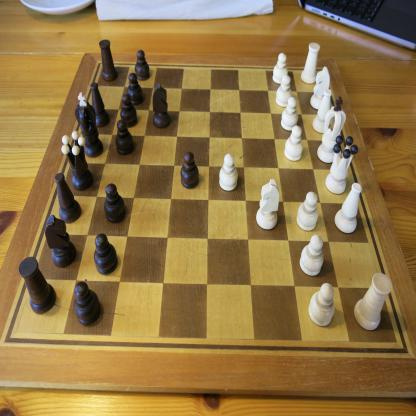black-bishop: (48, 172, 82, 224), (79, 82, 110, 128)
black-king: (74, 92, 104, 158)
black-knight: (40, 214, 76, 268), (152, 83, 171, 129)
black-pawn: (74, 281, 101, 326), (93, 233, 118, 275), (104, 183, 127, 224), (180, 151, 199, 190), (114, 119, 134, 156), (119, 93, 138, 128), (126, 72, 144, 106), (134, 48, 150, 82)
black-queen: (61, 130, 93, 192)
black-rook: (18, 256, 57, 314), (91, 39, 118, 82)
white-bishop: (334, 182, 362, 235), (312, 88, 332, 135)
white-king: (316, 96, 347, 164)
white-knight: (255, 178, 280, 231), (310, 66, 330, 111)
white-pawn: (308, 282, 336, 327), (299, 234, 324, 277), (296, 191, 319, 232), (218, 153, 238, 192), (284, 126, 304, 162), (280, 96, 299, 132), (275, 74, 292, 108), (272, 52, 288, 85)
white-queen: (324, 135, 358, 195)
white-rook: (353, 272, 393, 332), (300, 42, 321, 85)
